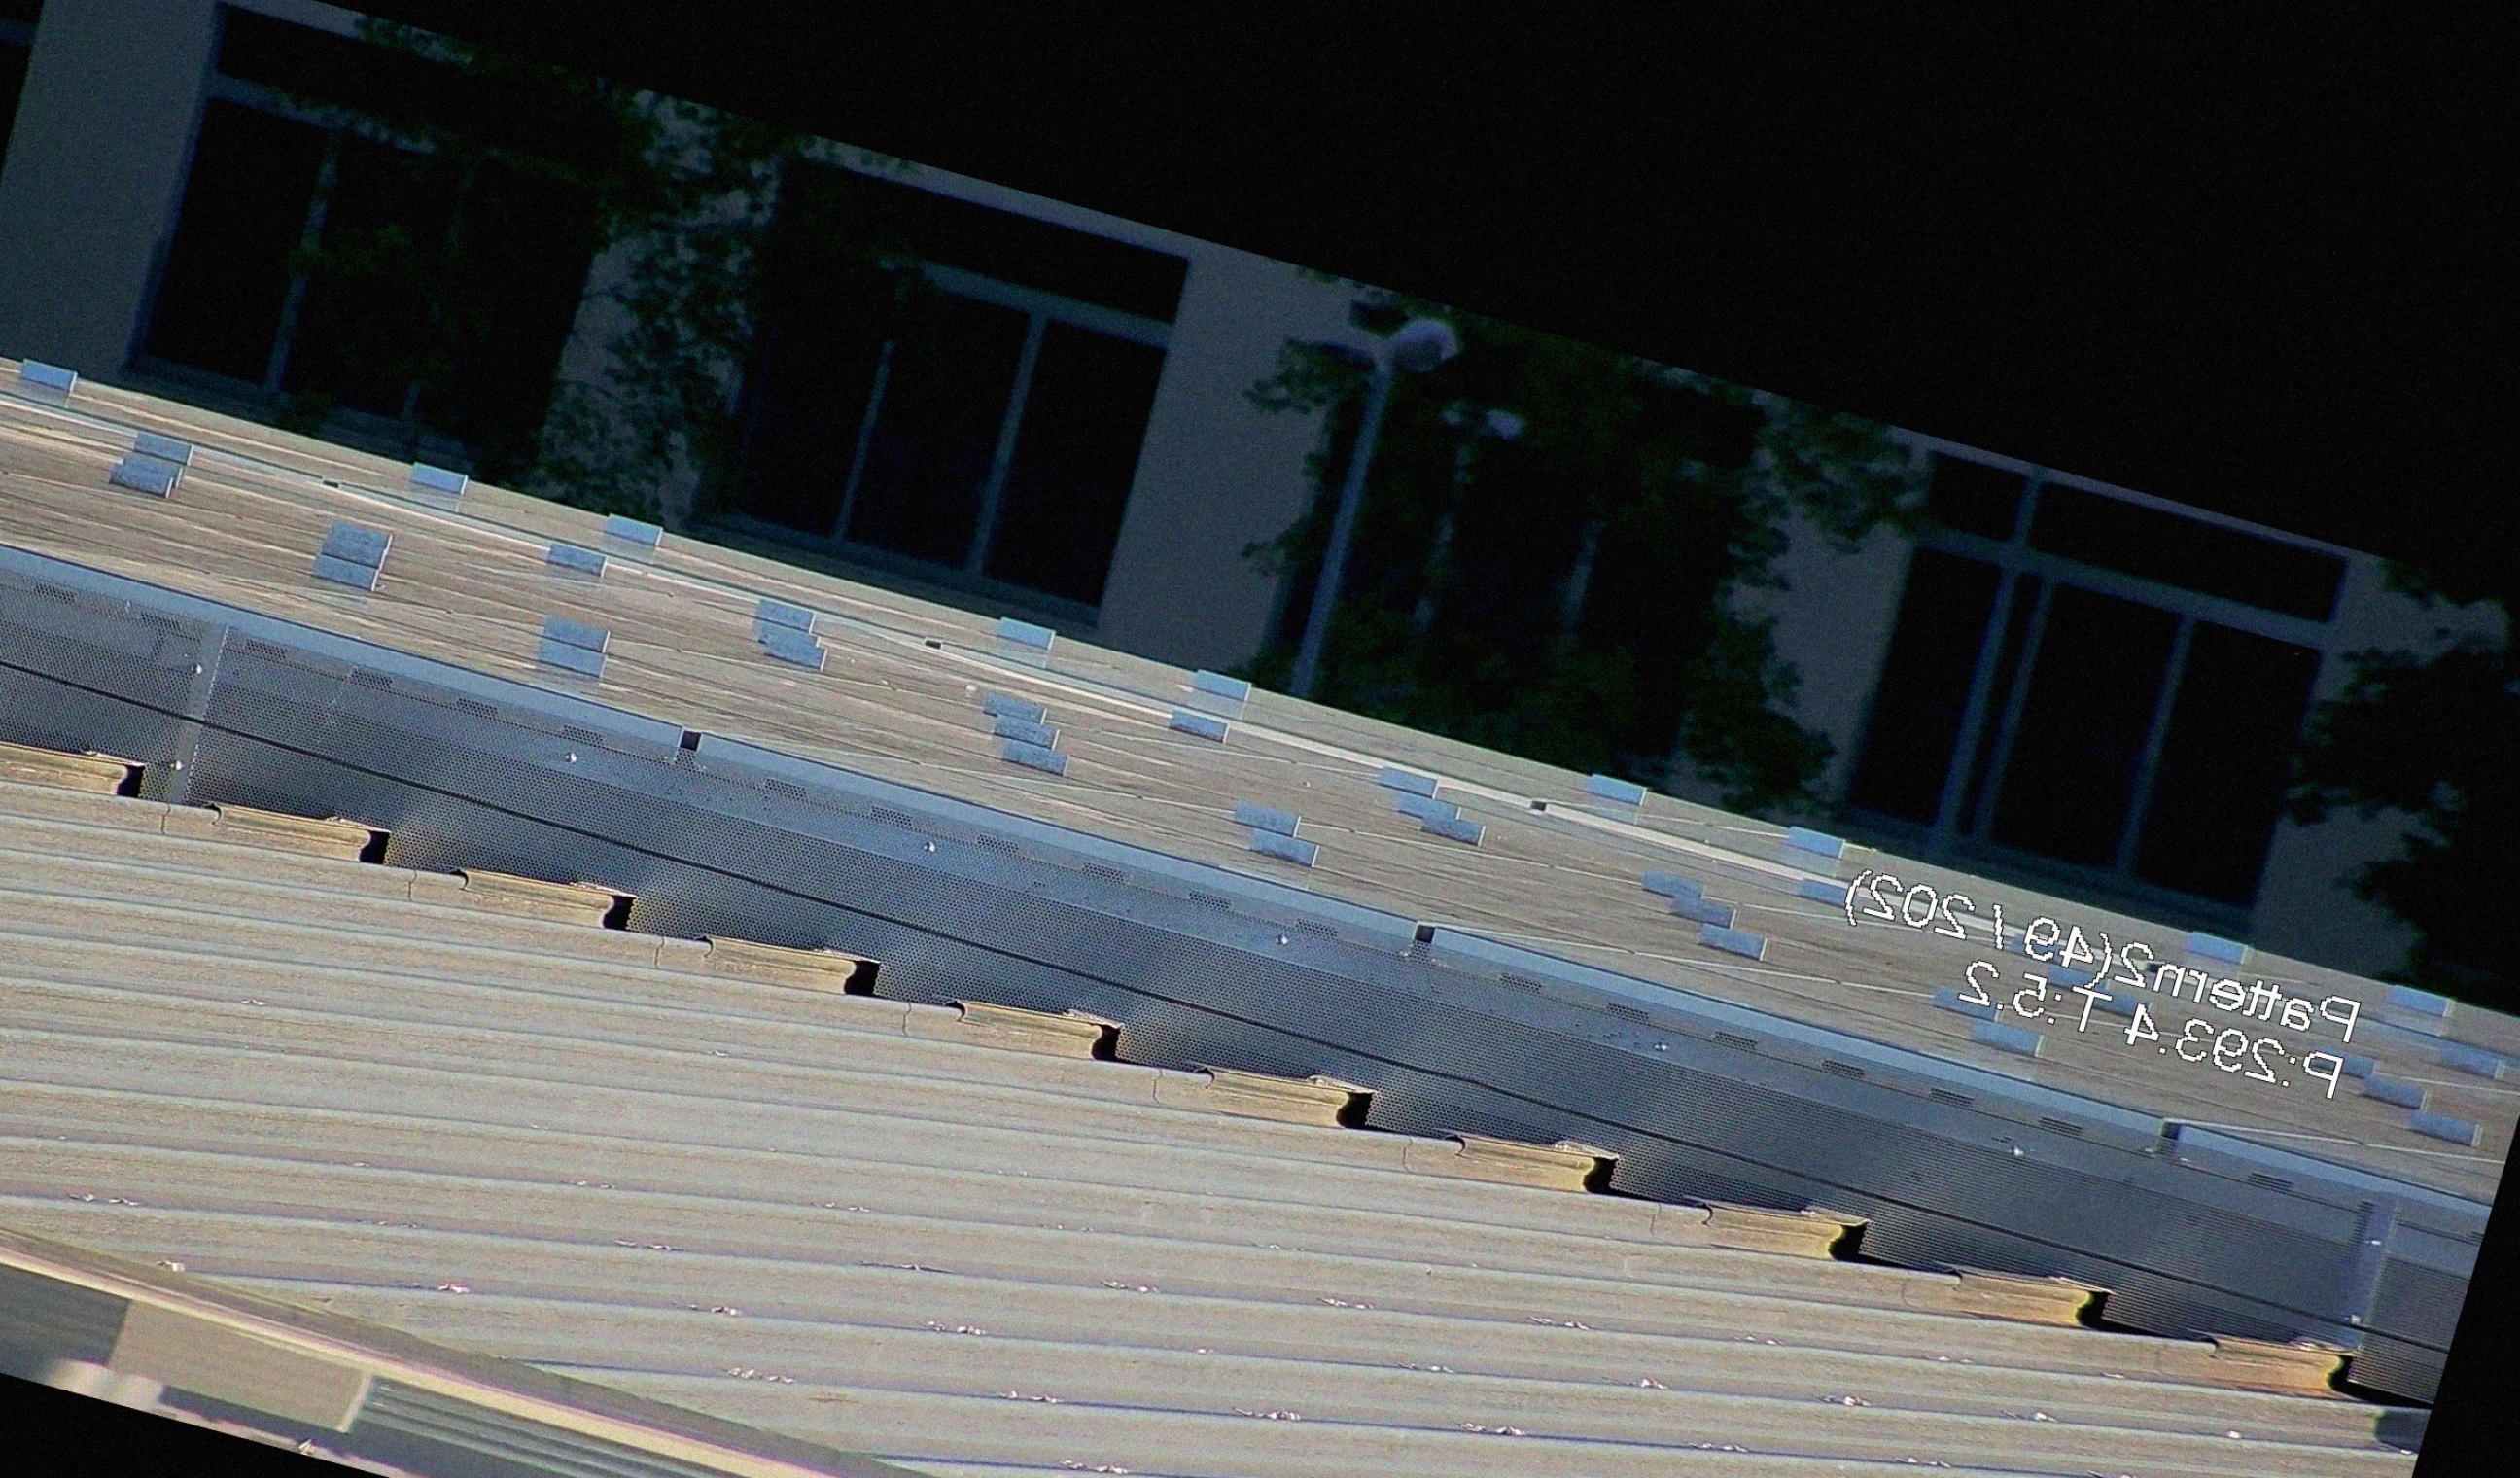Other: (1834, 1212, 1905, 1277)
